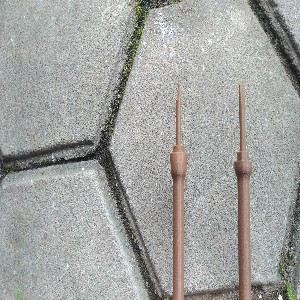obeng: (233, 83, 253, 300)
solder: (169, 83, 189, 300)
